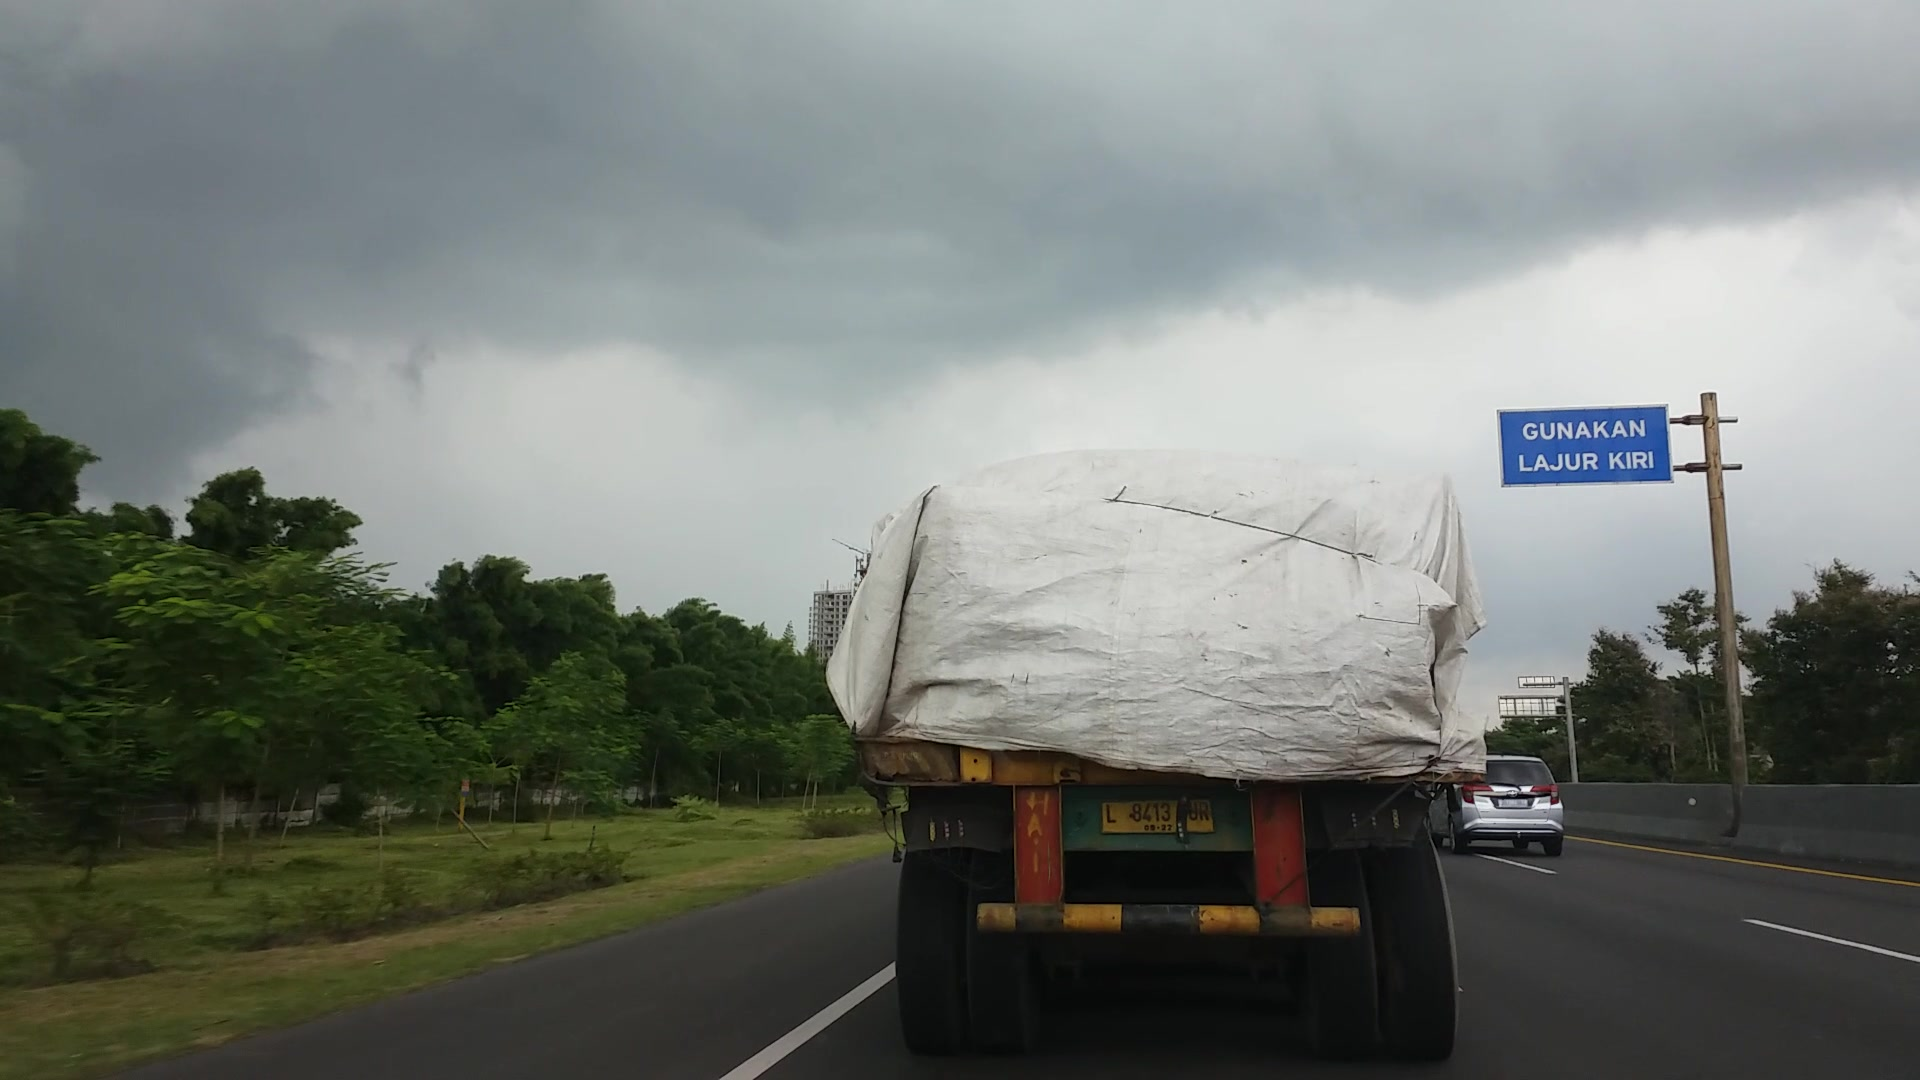plate_positive: (1100, 798, 1215, 833)
